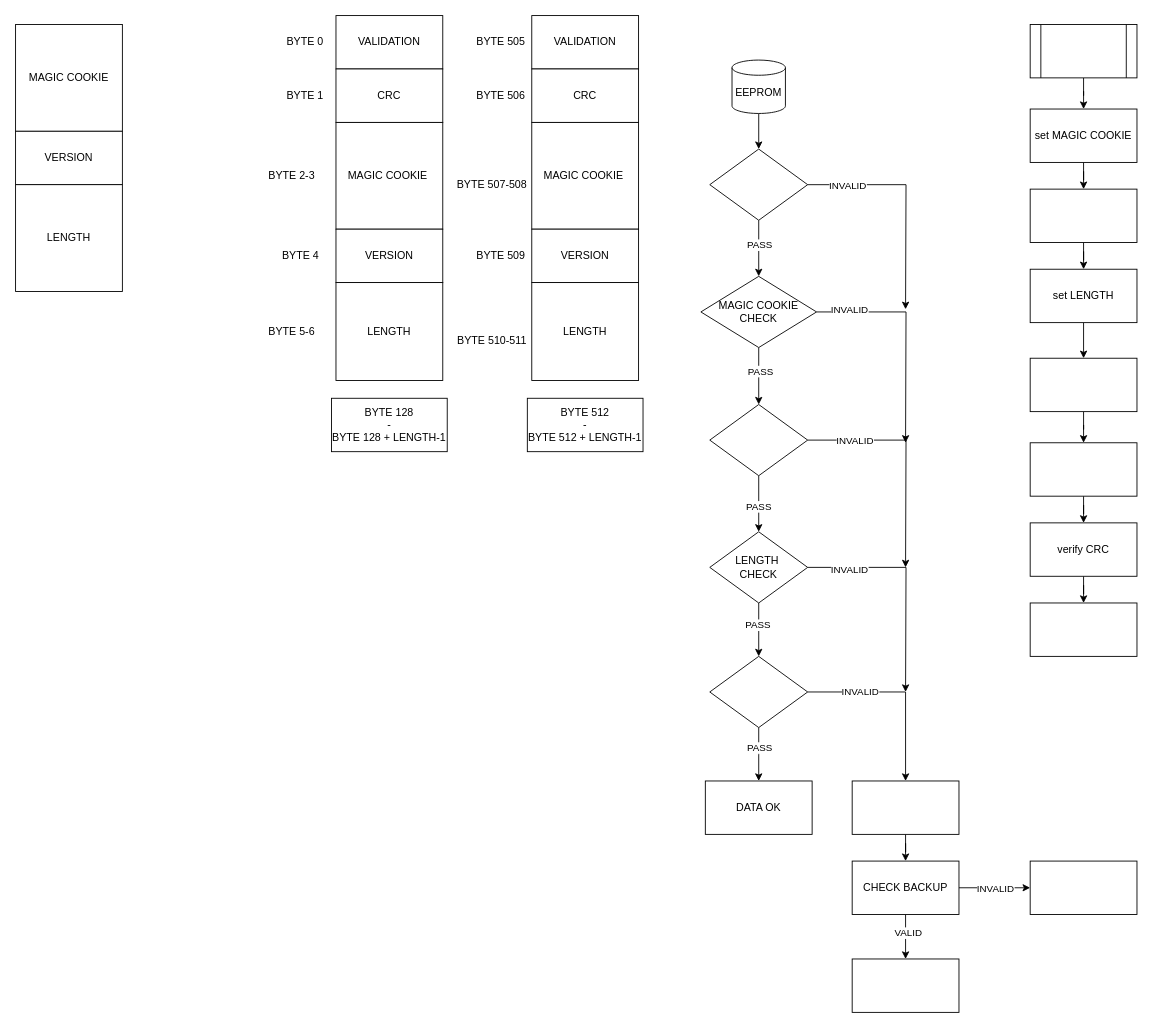
The diagram is 1153 pixels wide and 1028 high, and some of its shapes have lost their labels. Here are the shapes that lost their labels. From the top down, the box of each, then its label:
(1029, 24, 1137, 78): reset to default
(709, 148, 808, 220): VALIDATION CHECK
(1029, 188, 1137, 243): set VERSION
(1029, 357, 1137, 412): calculate CRC
(709, 404, 808, 476): VERSION CHECK
(1029, 442, 1137, 496): set CRC
(1029, 602, 1137, 656): set Validation BYTE
(709, 655, 808, 728): CRC CHECK
(851, 780, 959, 834): VALIDATIONBYTE INVALID
(1029, 860, 1137, 914): RESET SYSTEM TO VALID
(851, 958, 959, 1012): MARK VALID
